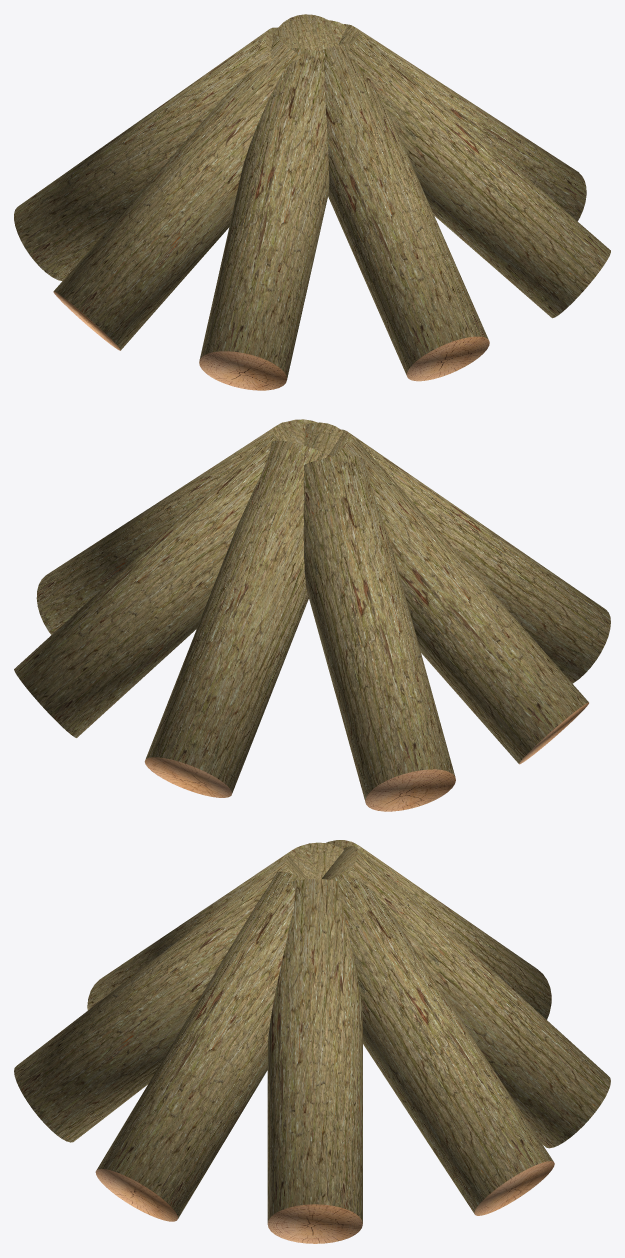
File: ID218 - Campfire.fbx
The picture shows the model from 3 angles, top to bottom: view 1: azimuth 30°, elevation 25°; view 2: azimuth 150°, elevation 25°; view 3: azimuth 270°, elevation 25°; orthographic projection. The views are drawn at different scales.
Visible parts, largest first — view 1: Cylinder.005, Cylinder.002, Cylinder.001, Cylinder.006, Cylinder.007, Cylinder.004, Cylinder; view 2: Cylinder.007, Cylinder, Cylinder.003, Cylinder.001, Cylinder.005, Cylinder.004, Cylinder.002; view 3: Cylinder.004, Cylinder.003, Cylinder.006, Cylinder.002, Cylinder, Cylinder.007, Cylinder.005, Cylinder.001.
Boxes of the visible parts, box(x1,y1,x2,y2) form: Cylinder.005: box(199, 48, 329, 390); Cylinder.002: box(318, 44, 489, 381); Cylinder.001: box(53, 38, 302, 350); Cylinder.006: box(345, 32, 610, 318); Cylinder.007: box(14, 27, 277, 281); Cylinder.004: box(338, 24, 586, 221); Cylinder: box(272, 14, 329, 51); Cylinder.007: box(303, 455, 455, 811); Cylinder: box(144, 440, 331, 797); Cylinder.003: box(14, 434, 279, 737); Cylinder.001: box(333, 439, 588, 764); Cylinder.005: box(329, 429, 610, 683); Cylinder.004: box(36, 422, 291, 634); Cylinder.002: box(304, 422, 343, 454); Cylinder.004: box(267, 878, 362, 1243); Cylinder.003: box(330, 871, 554, 1215); Cylinder.006: box(95, 871, 304, 1221); Cylinder.002: box(14, 855, 307, 1142); Cylinder: box(321, 846, 610, 1148); Cylinder.007: box(325, 840, 551, 1019); Cylinder.005: box(87, 845, 318, 1010); Cylinder.001: box(300, 842, 343, 878).
Size of the model in its own units: 440 by 224 by 417.
